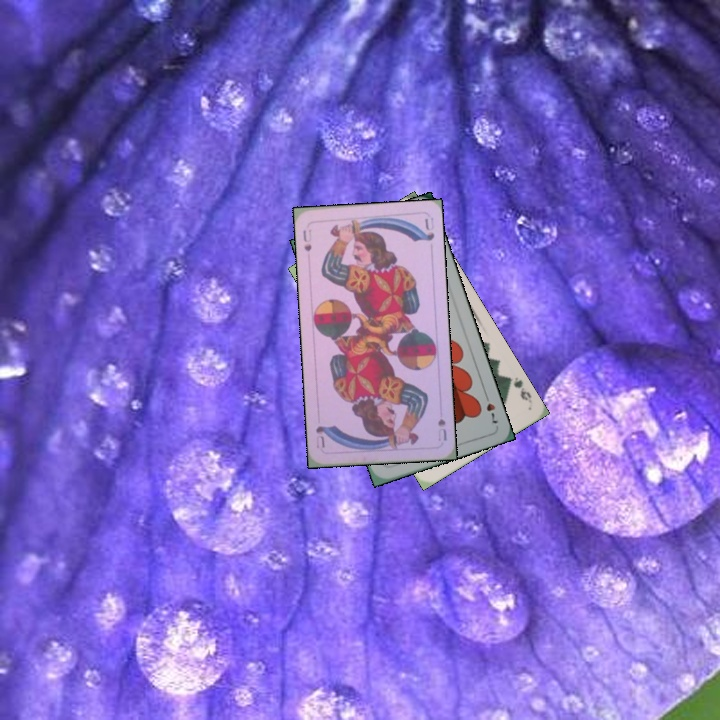G9: (503, 372, 534, 403)
H7: (480, 388, 501, 428)
SU: (299, 225, 314, 254), (434, 415, 449, 443)
